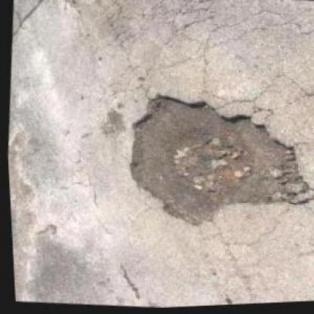Hueco: (110, 84, 313, 241)
